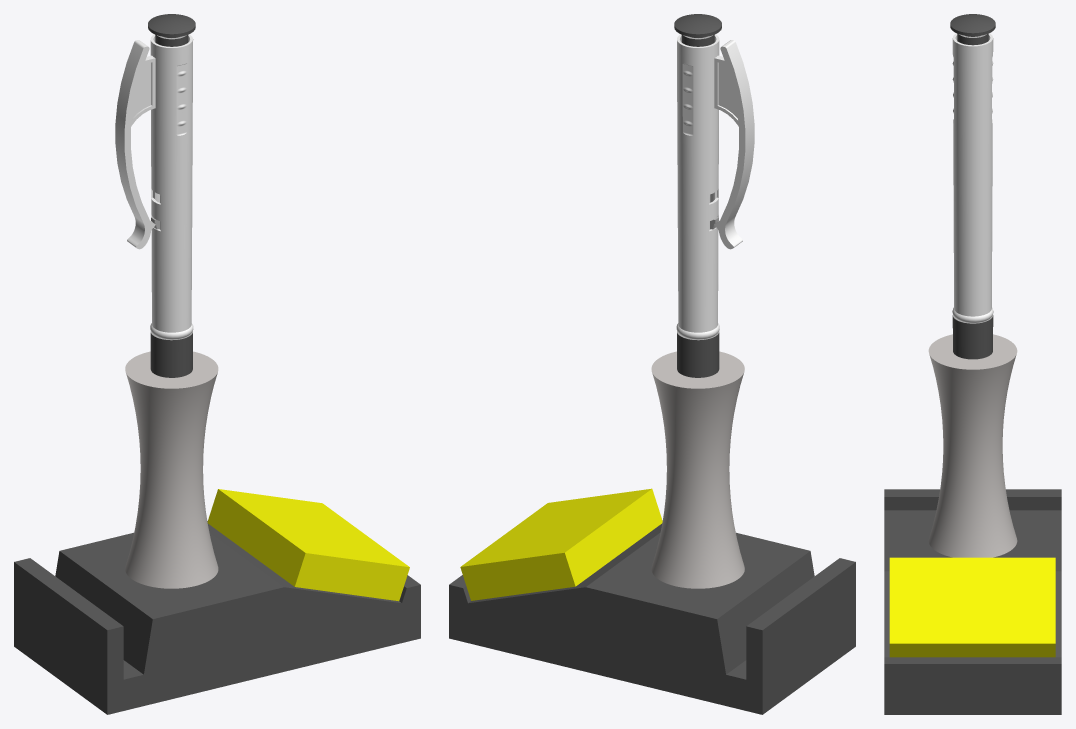
The model's file is config10.glb.
3 views of the same model, side by side, from view 1: azimuth 30°, elevation 25°; view 2: azimuth 150°, elevation 25°; view 3: azimuth 270°, elevation 25° (orthographic). The views are drawn at different scales.
Visible parts, largest first — view 1: Socle-2, Porte stylo-1, SADC-SADC Pen_SADC 001-1, post it-1, SADC-SADC Pen_SADC 002-2, SADC-SADC Pen_SADC 005-1; view 2: Socle-2, Porte stylo-1, SADC-SADC Pen_SADC 001-1, post it-1, SADC-SADC Pen_SADC 002-2, SADC-SADC Pen_SADC 005-1; view 3: Socle-2, post it-1, Porte stylo-1, SADC-SADC Pen_SADC 001-1, SADC-SADC Pen_SADC 002-2, SADC-SADC Pen_SADC 005-1.
Boxes of the visible parts, <box> form: Socle-2: <box>14,521,420,714</box>; Porte stylo-1: <box>125,351,218,588</box>; SADC-SADC Pen_SADC 001-1: <box>115,34,193,339</box>; post it-1: <box>207,489,409,601</box>; SADC-SADC Pen_SADC 002-2: <box>150,331,192,377</box>; SADC-SADC Pen_SADC 005-1: <box>148,14,195,229</box>; Socle-2: <box>449,523,855,714</box>; Porte stylo-1: <box>651,351,744,588</box>; SADC-SADC Pen_SADC 001-1: <box>676,34,754,339</box>; post it-1: <box>460,488,662,600</box>; SADC-SADC Pen_SADC 002-2: <box>677,331,719,377</box>; SADC-SADC Pen_SADC 005-1: <box>674,14,721,229</box>; Socle-2: <box>884,489,1061,714</box>; post it-1: <box>889,557,1055,657</box>; Porte stylo-1: <box>928,334,1017,557</box>; SADC-SADC Pen_SADC 001-1: <box>952,33,993,322</box>; SADC-SADC Pen_SADC 002-2: <box>952,315,993,359</box>; SADC-SADC Pen_SADC 005-1: <box>950,14,995,45</box>.
Bounding box in the file's own units: 0.0984 × 0.1899 × 0.0508.
